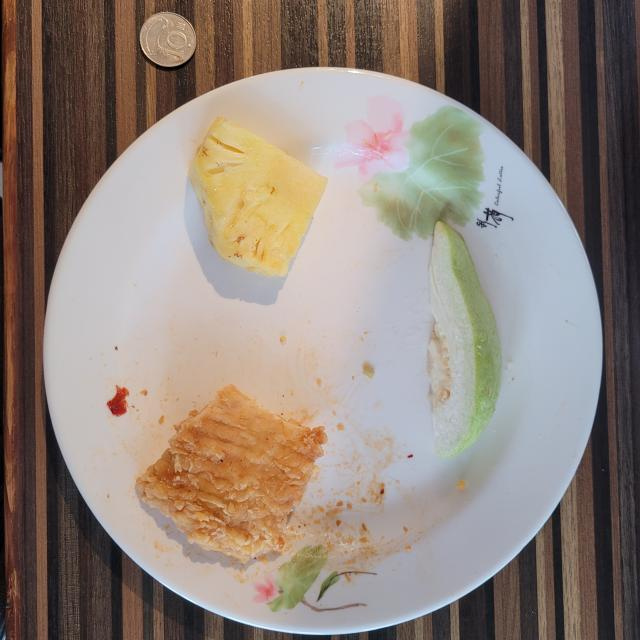coin: (140, 12, 196, 68)
fried chicken cutlet: (136, 385, 328, 564)
guava -sliced-: (428, 221, 501, 458)
pineapple: (189, 118, 328, 276)
